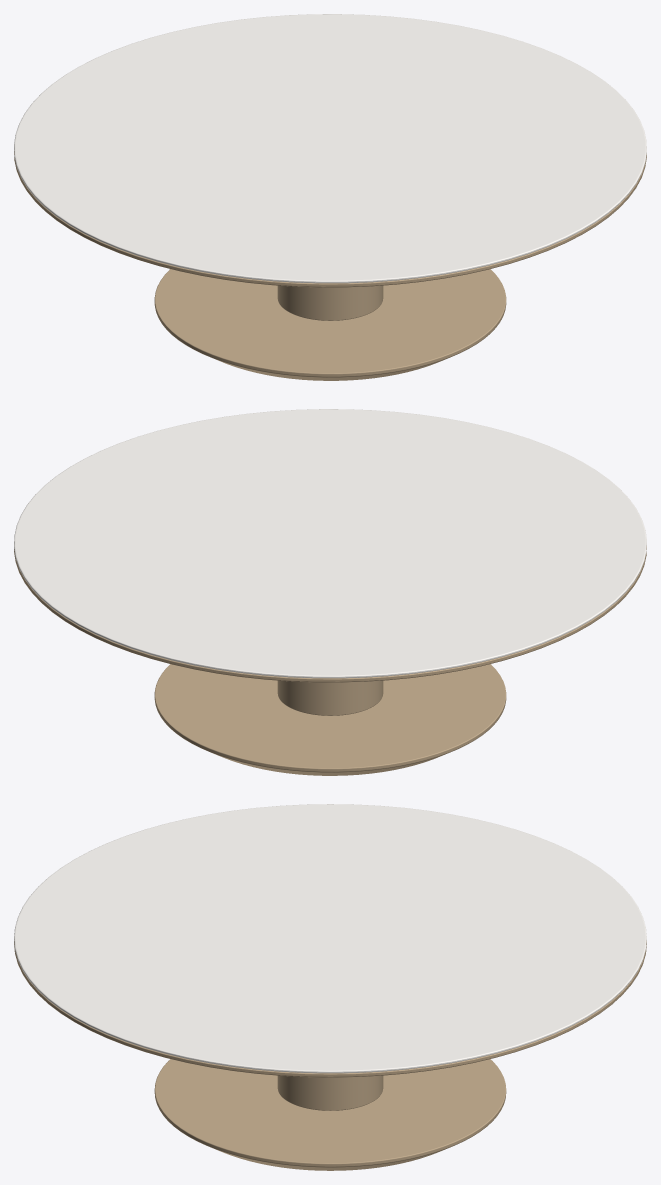
Rendered from orbit_d90h26_proposta.glb.
3 views of the same model, one above another, from view 1: azimuth 30°, elevation 25°; view 2: azimuth 150°, elevation 25°; view 3: azimuth 270°, elevation 25° (orthographic).
Visible parts, largest first — view 1: Top Orbit Coffee Table 022, Base Orbit Coffee Table 022, Base Element Orbit Coffee Table 025, Undertop Orbit Coffee Table 022; view 2: Top Orbit Coffee Table 022, Base Orbit Coffee Table 022, Base Element Orbit Coffee Table 025, Undertop Orbit Coffee Table 022; view 3: Top Orbit Coffee Table 022, Base Orbit Coffee Table 022, Base Element Orbit Coffee Table 025, Undertop Orbit Coffee Table 022.
Part boxes in pixels (x1,y1,x2,y2): Top Orbit Coffee Table 022: (14, 14, 646, 283); Base Orbit Coffee Table 022: (154, 269, 506, 380); Base Element Orbit Coffee Table 025: (277, 285, 383, 320); Undertop Orbit Coffee Table 022: (14, 151, 646, 287); Top Orbit Coffee Table 022: (14, 409, 646, 678); Base Orbit Coffee Table 022: (154, 664, 506, 775); Base Element Orbit Coffee Table 025: (277, 680, 383, 715); Undertop Orbit Coffee Table 022: (14, 546, 646, 682); Top Orbit Coffee Table 022: (14, 804, 646, 1073); Base Orbit Coffee Table 022: (154, 1059, 506, 1170); Base Element Orbit Coffee Table 025: (277, 1075, 383, 1110); Undertop Orbit Coffee Table 022: (14, 941, 646, 1077).
Size of the model in its own units: 0.9 by 0.264 by 0.9.
